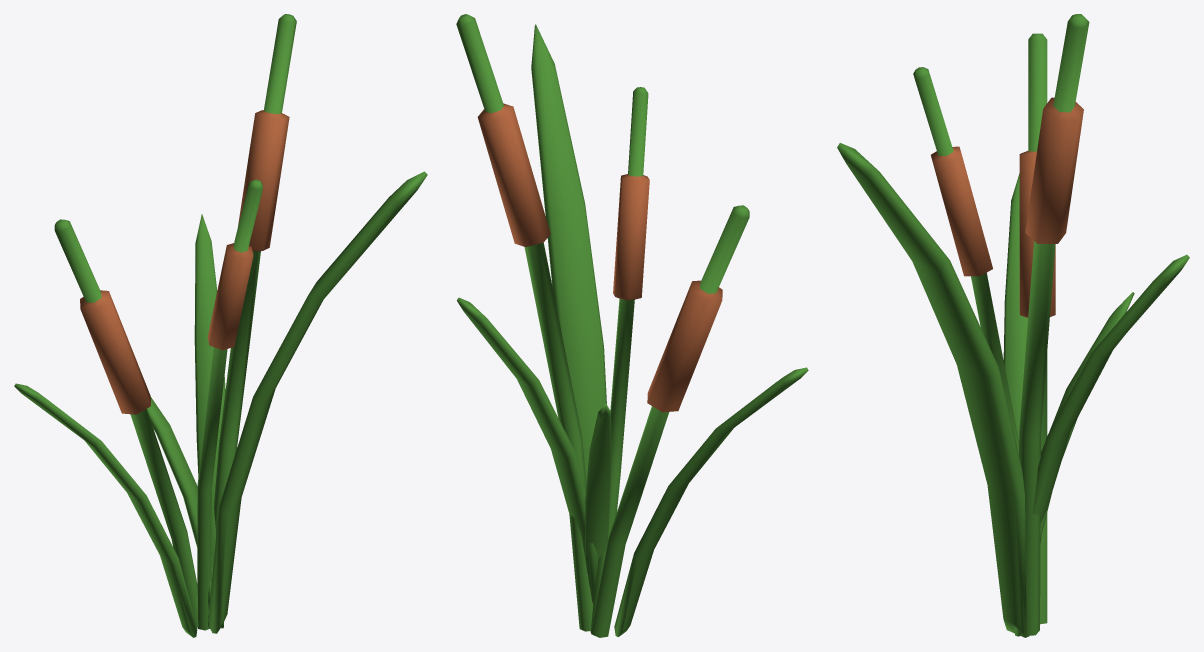
File: Reedmace.fbx
3 renders of one model, left to right at view 1: azimuth 30°, elevation 25°; view 2: azimuth 150°, elevation 25°; view 3: azimuth 270°, elevation 25°, orthographic. The views are drawn at different scales.
Visible parts, largest first — view 1: Reedmace; view 2: Reedmace; view 3: Reedmace.
Part boxes in pixels (<box>): Reedmace: <box>14,14,427,637</box>; Reedmace: <box>456,14,808,637</box>; Reedmace: <box>837,14,1189,637</box>.
Size of the model in its own units: 891 by 1450 by 689.
